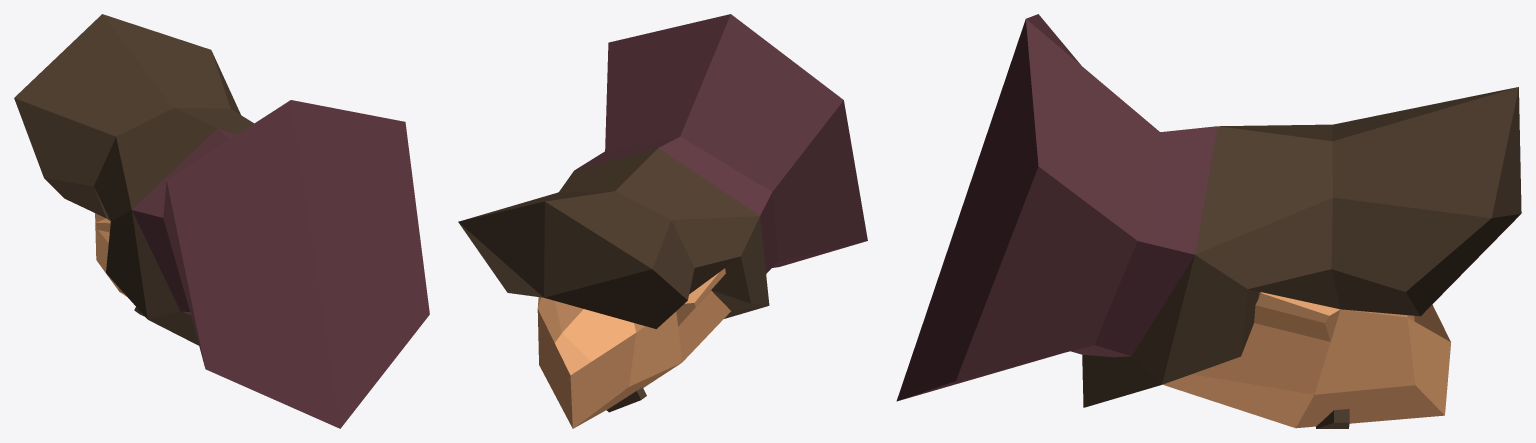
Rendered from head_king.fbx.
The picture shows the model from 3 angles, left to right: view 1: azimuth 30°, elevation 25°; view 2: azimuth 150°, elevation 25°; view 3: azimuth 270°, elevation 25°; orthographic projection. The views are drawn at different scales.
Parts seen in each view (by area): view 1: man-king; view 2: man-king; view 3: man-king.
Part boxes in pixels (x1,y1,x2,y2): man-king: (14,14,429,428); man-king: (458,14,867,428); man-king: (896,14,1521,428).
Bounding box in the file's own units: 269 × 338 × 467.
